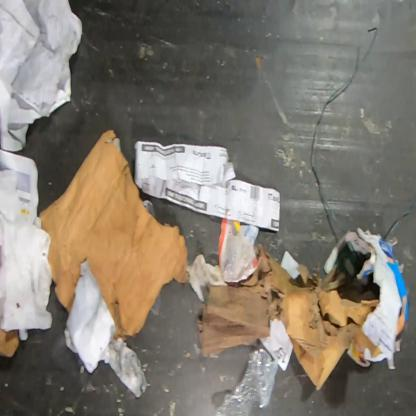cardboard: (198, 226, 410, 391), (39, 129, 190, 341), (0, 327, 21, 359)
rigid_plastic: (214, 348, 280, 415)
soft_plastic: (104, 325, 151, 398)
